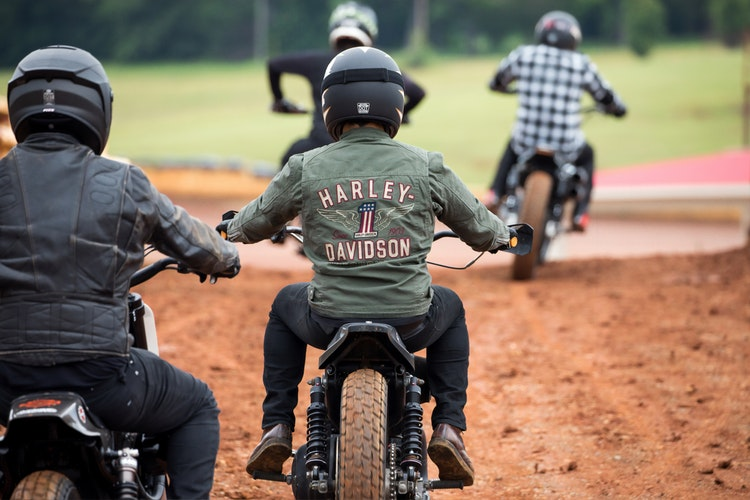helmet: (313, 39, 430, 136), (12, 48, 126, 141)
